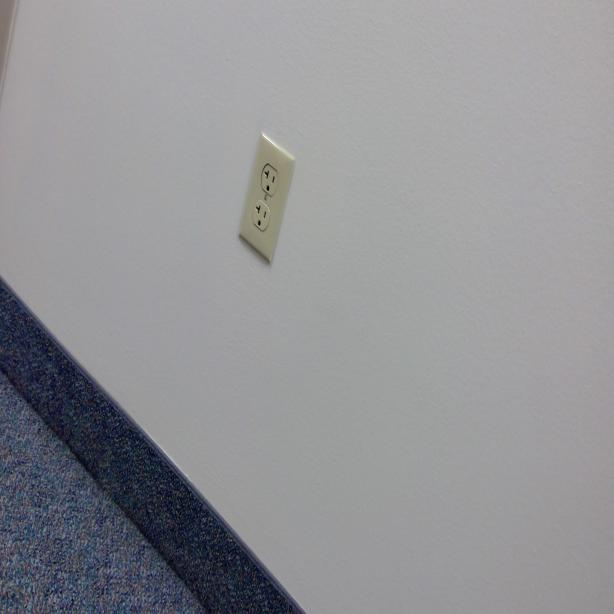typeb: (261, 162, 279, 197), (253, 202, 271, 232)
